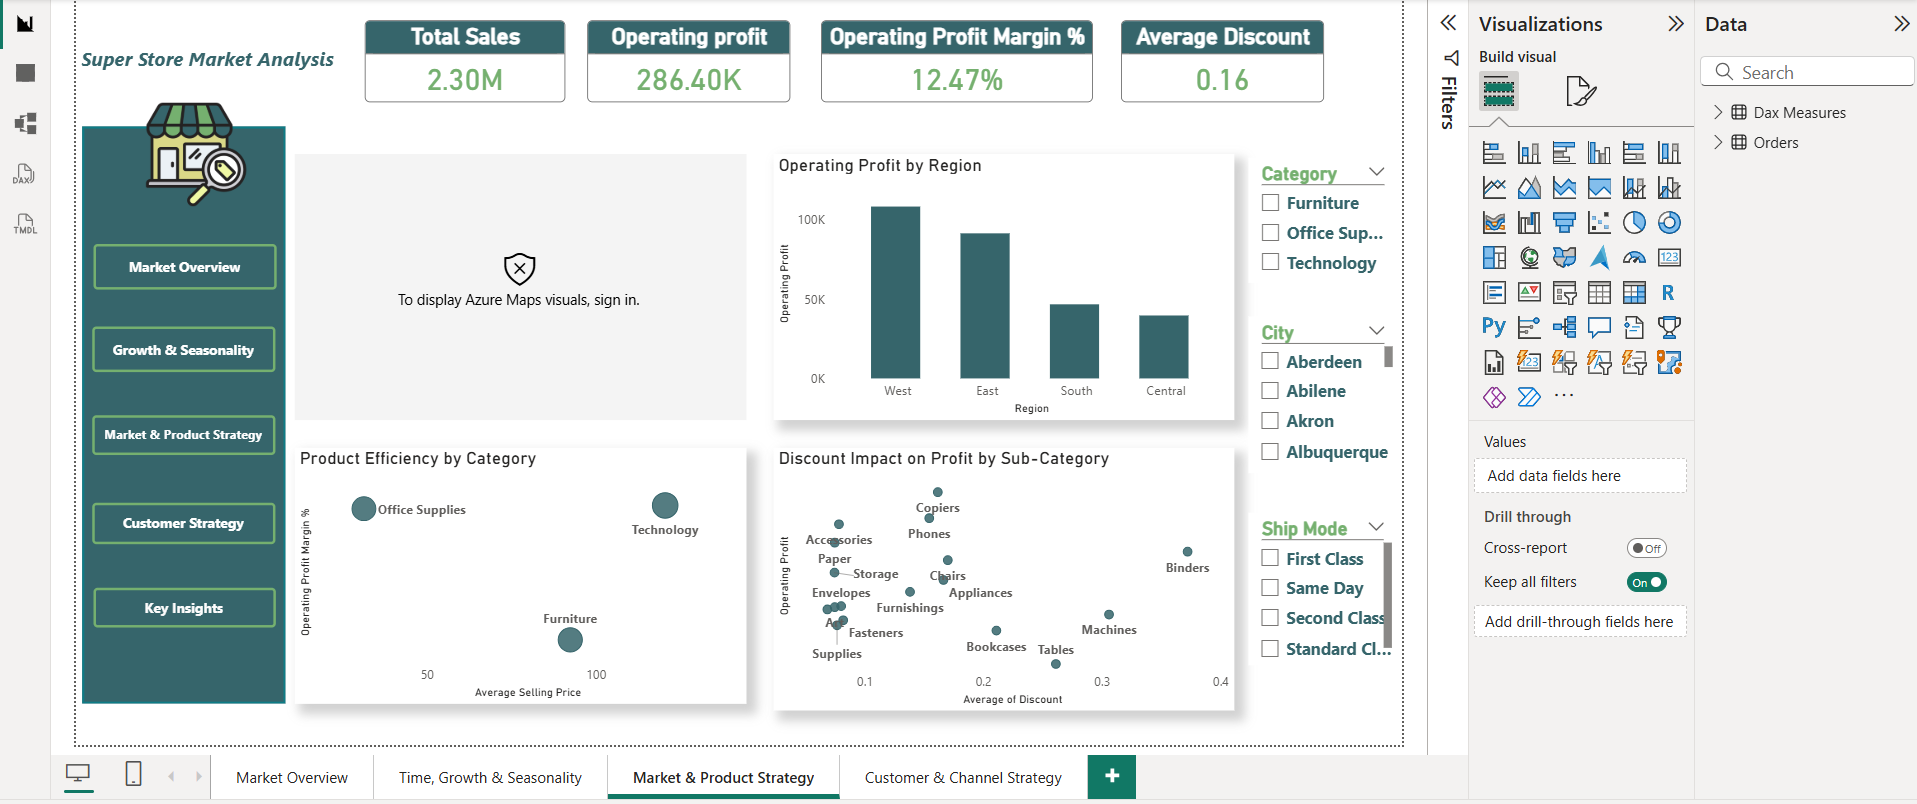

What the dashboard file says about the page in this screenshot:
{"tool":"powerbi","page":{"name":"Market & Product Strategy","canvas":[1280,720],"ordinal":2},"visuals":[{"type":"azureMap","fields":{"Category":["Orders.State"],"Size":["Dax Measures.Total Sales"],"Y":["Dax Measures.Operating Profit"]},"box":[211.3,149.6,436.4,256.6],"z":0},{"type":"columnChart","fields":{"Category":["Orders.Region"],"Y":["Dax Measures.Operating Profit"]},"box":[673.8,149.6,444.6,256.6],"z":1000},{"type":"scatterChart","title":"Product Efficiency by Category","fields":{"X":["Dax Measures.Average Selling Price"],"Y":["Dax Measures.Operating Profit Margin %"],"Size":["Dax Measures.Total Sales"],"Category":["Orders.Category"]},"box":[211.3,433.6,436.4,247],"z":2000},{"type":"scatterChart","title":"Discount Impact on Profit by Sub-Category","fields":{"X":["Avg(Orders.Discount)"],"Y":["Dax Measures.Operating Profit"],"Category":["Orders.Sub-Category"]},"box":[673.8,433.6,444.6,253.9],"z":3000},{"type":"textbox","box":[0,39.8,351.3,41.2],"z":4000},{"type":"card","title":"Total Sales","fields":{"Values":["Dax Measures.Total Sales"]},"box":[278.6,20.6,193.5,79.6],"z":5000},{"type":"card","title":"Operating profit","fields":{"Values":["Dax Measures.Operating Profit"]},"box":[494,20.6,196.2,79.6],"z":6000},{"type":"card","title":"Operating Profit Margin %","fields":{"Values":["Dax Measures.Operating Profit Margin %"]},"box":[719,20.6,262.1,79.6],"z":7000},{"type":"card","title":"Average Discount","fields":{"Values":["Avg(Orders.Discount)"]},"box":[1008.6,20.6,196.2,79.6],"z":8000},{"type":"slicer","fields":{"Values":["Orders.Category"]},"box":[1132.1,153.7,144.1,120.8],"z":9000},{"type":"slicer","fields":{"Values":["Orders.City"]},"box":[1132.1,306,144.1,150.9],"z":10000},{"type":"shape","box":[5.5,123.5,196.2,557.1],"z":11000},{"type":"actionButton","box":[16.5,236,177,43.9],"z":12000},{"type":"image","box":[60.4,85.1,111.1,129],"z":13000},{"type":"actionButton","box":[15.1,315.6,177,43.9],"z":14000},{"type":"actionButton","box":[15.1,402.1,177,38.4],"z":15000},{"type":"actionButton","box":[15.1,485.8,177,39.8],"z":16000},{"type":"slicer","fields":{"Values":["Orders.Ship Mode"]},"box":[1131.6,495.8,143.6,147.2],"z":17000},{"type":"actionButton","title":"Key In","box":[16.5,568.1,175.6,38.4],"z":17001}]}

Visuals, with their boxes on the page's 1280x720 design canvas (x1, y1, x2, y2). These are canvas units, not pixel positions in the 1917x804 screenshot, which may show the page scaled, cropped or inside an application window:
azureMap - Orders.State x Dax Measures.Total Sales: detection(211, 150, 648, 406)
columnChart - Orders.Region x Dax Measures.Operating Profit: detection(674, 150, 1118, 406)
"Product Efficiency by Category" scatterChart: detection(211, 434, 648, 681)
"Discount Impact on Profit by Sub-Category" scatterChart: detection(674, 434, 1118, 688)
textbox: detection(0, 40, 351, 81)
"Total Sales" card: detection(279, 21, 472, 100)
"Operating profit" card: detection(494, 21, 690, 100)
"Operating Profit Margin %" card: detection(719, 21, 981, 100)
"Average Discount" card: detection(1009, 21, 1205, 100)
slicer - Orders.Category: detection(1132, 154, 1276, 274)
slicer - Orders.City: detection(1132, 306, 1276, 457)
shape: detection(6, 124, 202, 681)
actionButton: detection(16, 236, 194, 280)
image: detection(60, 85, 172, 214)
actionButton: detection(15, 316, 192, 360)
actionButton: detection(15, 402, 192, 440)
actionButton: detection(15, 486, 192, 526)
slicer - Orders.Ship Mode: detection(1132, 496, 1275, 643)
"Key In" actionButton: detection(16, 568, 192, 606)
